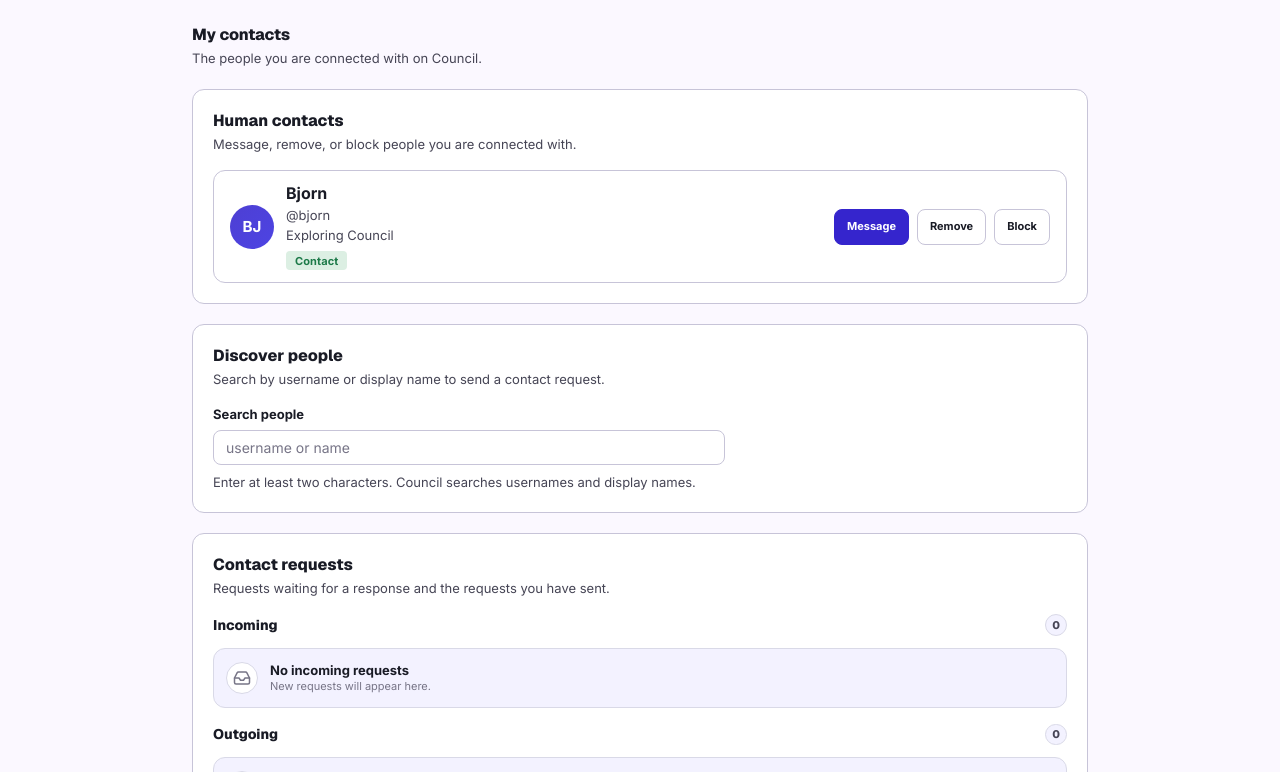
ContactsPage › confirms and removes a contact
The width and height of the screenshot is (1280, 772).
Expected: the text "Bjorn" is shown, [286, 183, 327, 203]
Click the button "Remove" at {"x": 952, "y": 227}, box [917, 209, 986, 245]
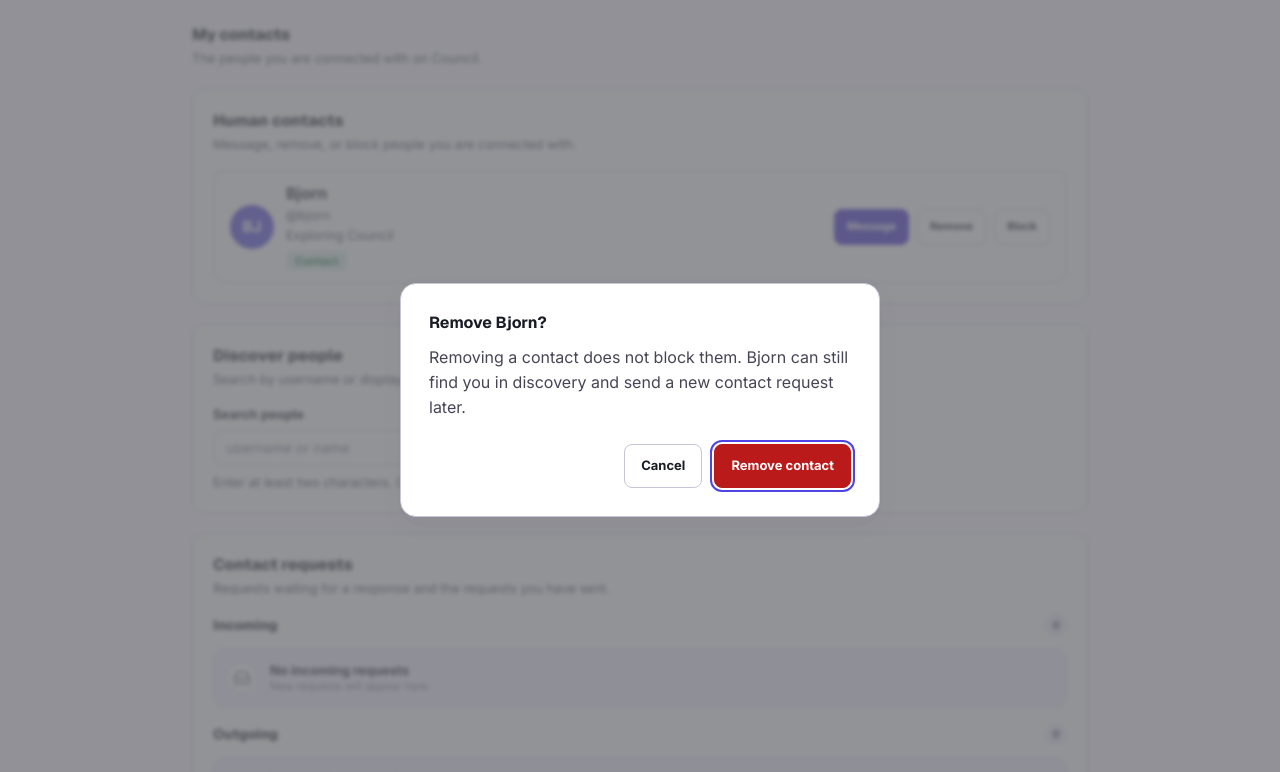
Expected: the heading "Remove Bjorn?" is shown, [429, 312, 547, 333]
Click the button "Remove contact" at {"x": 783, "y": 466}, box [714, 444, 851, 488]
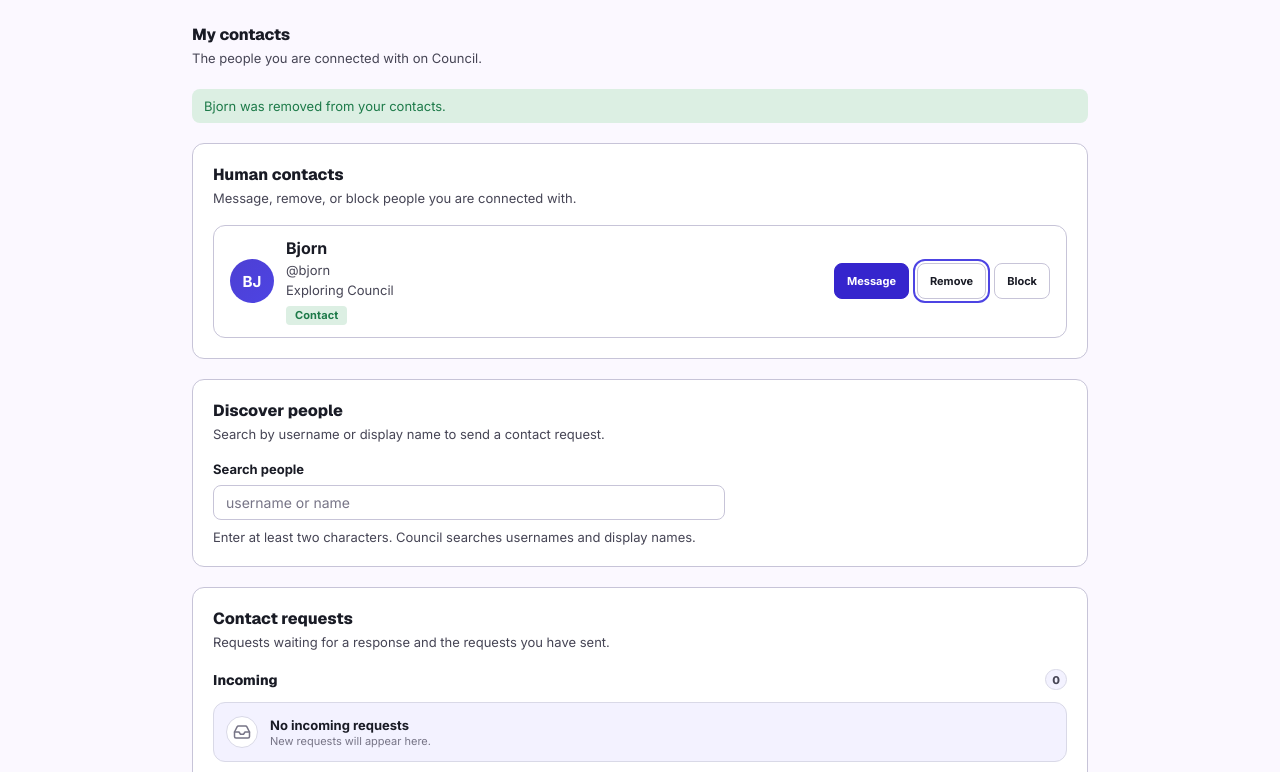
Expected: the text "Bjorn was removed from your contacts." is shown, [192, 88, 1088, 123]
